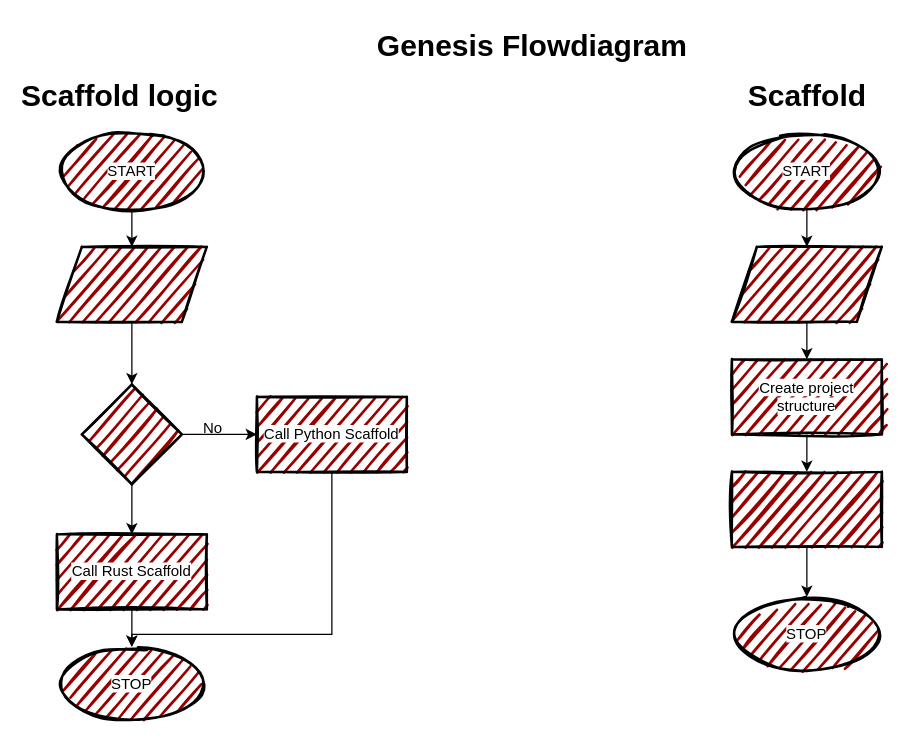
Some shapes in this 905 by 744 pixel diagram are drawn without their labels. Each missing label, with the centre of its shape:
Call genesis config: point (806, 509)
If Lanugage == rust: point (131, 433)
Name: point (806, 283)
Name, Language: point (131, 283)
